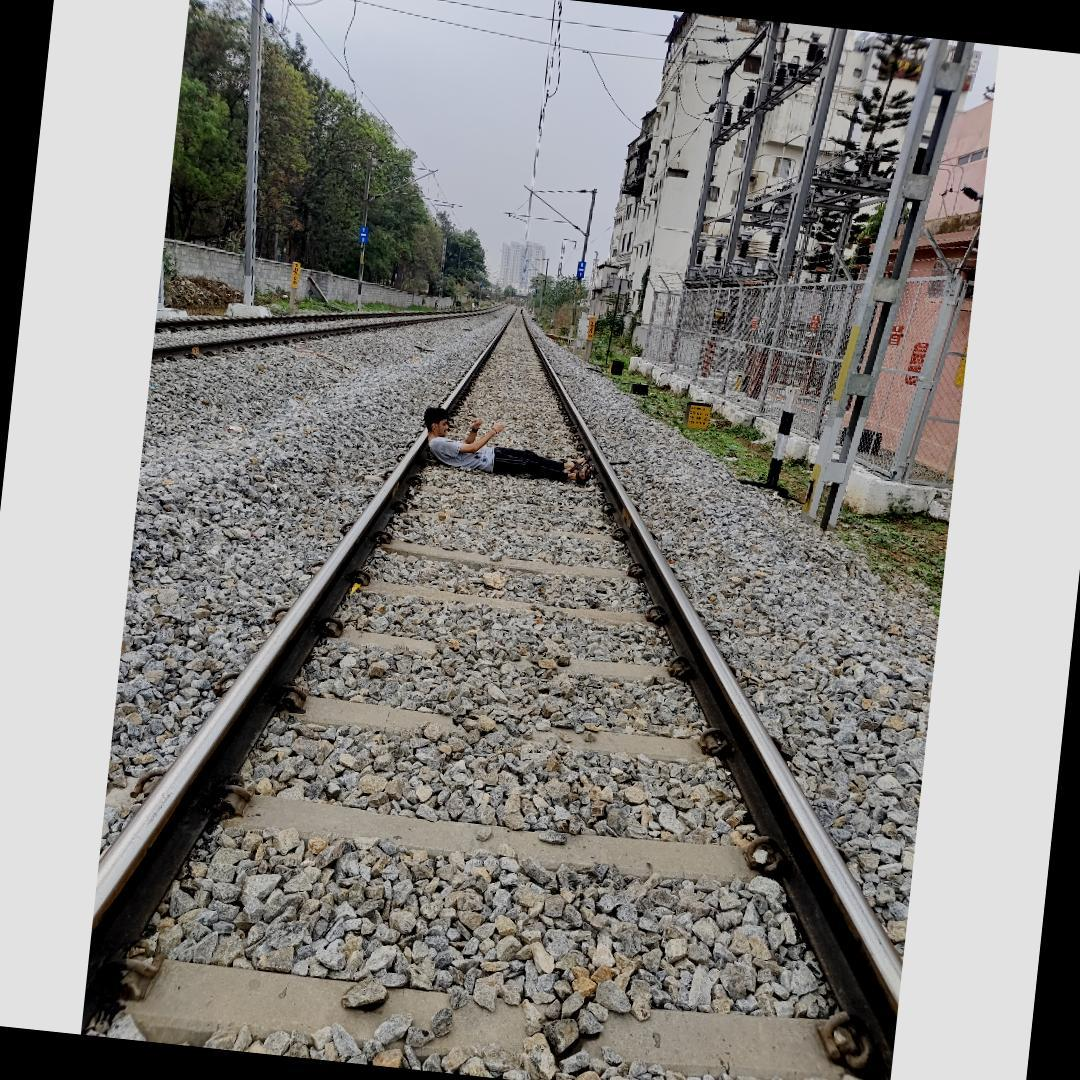sleeping: (416, 404, 599, 486)
track: (82, 294, 904, 1080)
